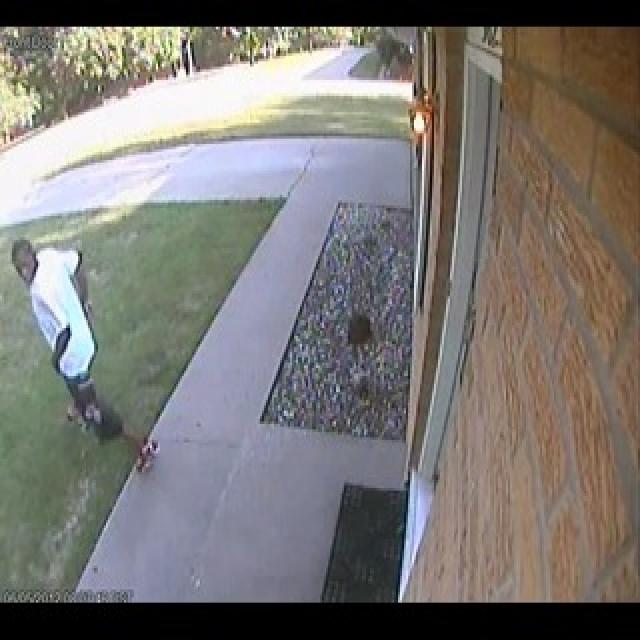thief: (10, 228, 151, 492)
